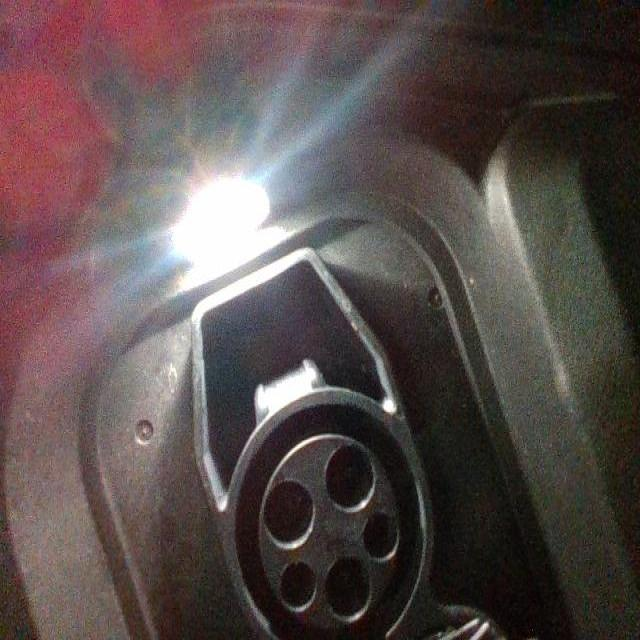Type 1: (228, 424, 431, 637)
